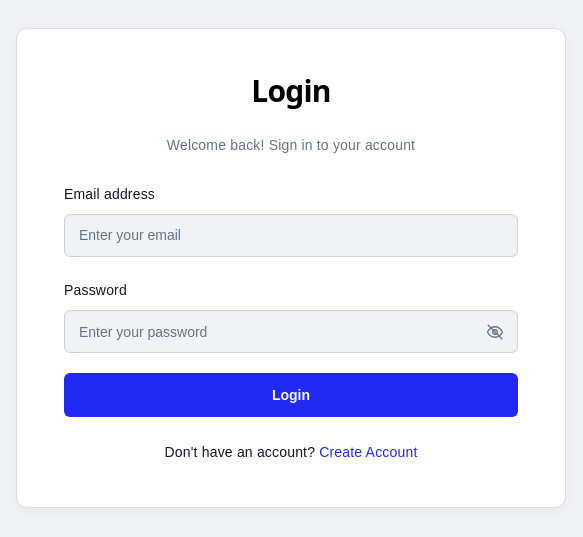
Scenario: Login component › shows an error when the password is empty
Type "test@example.com" into the field labelled "Email address" at [291, 236], box [64, 214, 518, 257]
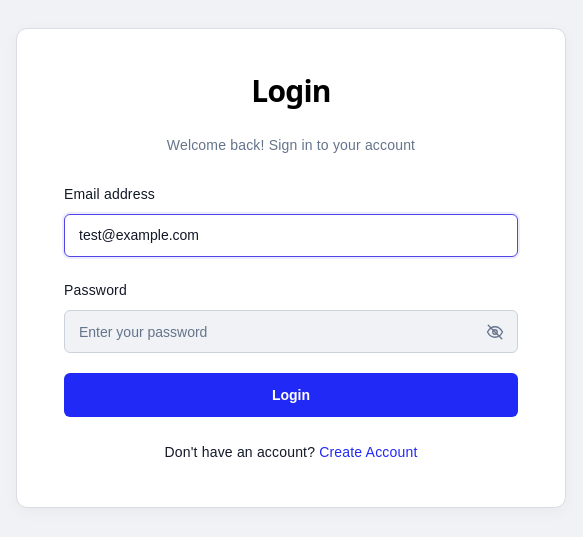
Click the button "Login" at [291, 395], box [64, 373, 518, 417]
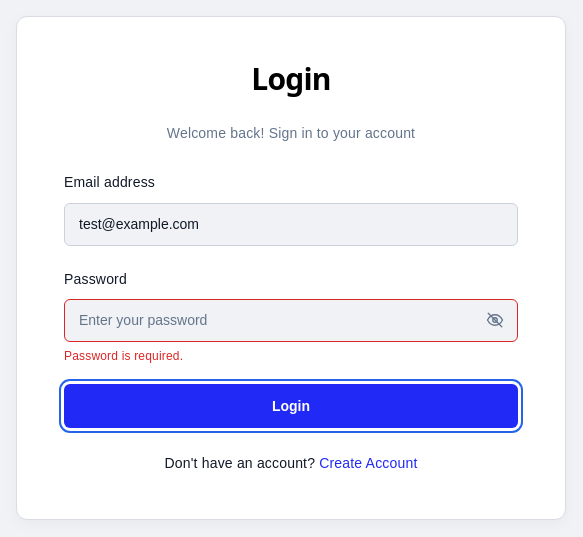
Expected: the text "Password is required." is shown, [64, 349, 183, 363]
